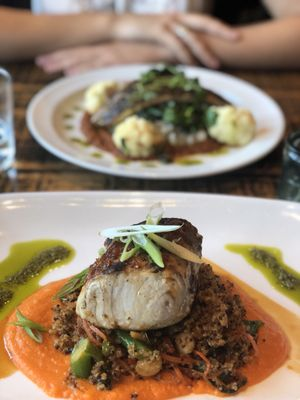pizza: (0, 65, 17, 185)
soup: (45, 216, 264, 397)
